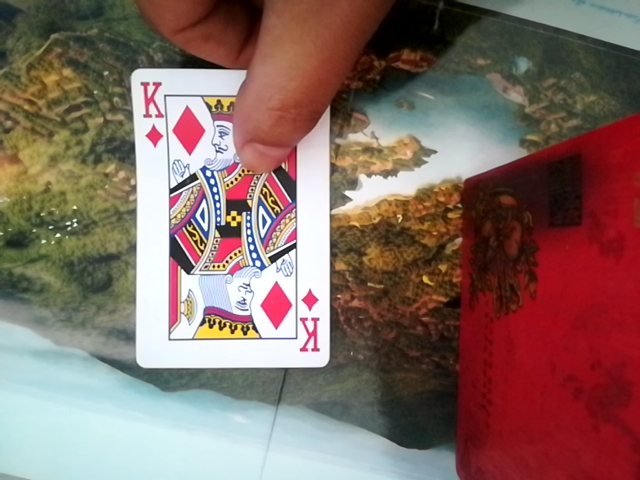fk k: (123, 61, 331, 374)
